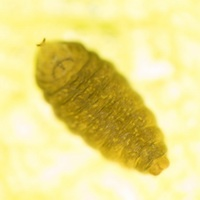insect: (36, 42, 168, 174)
